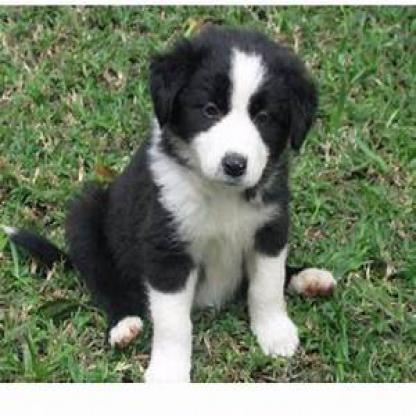dog: (66, 24, 338, 381)
